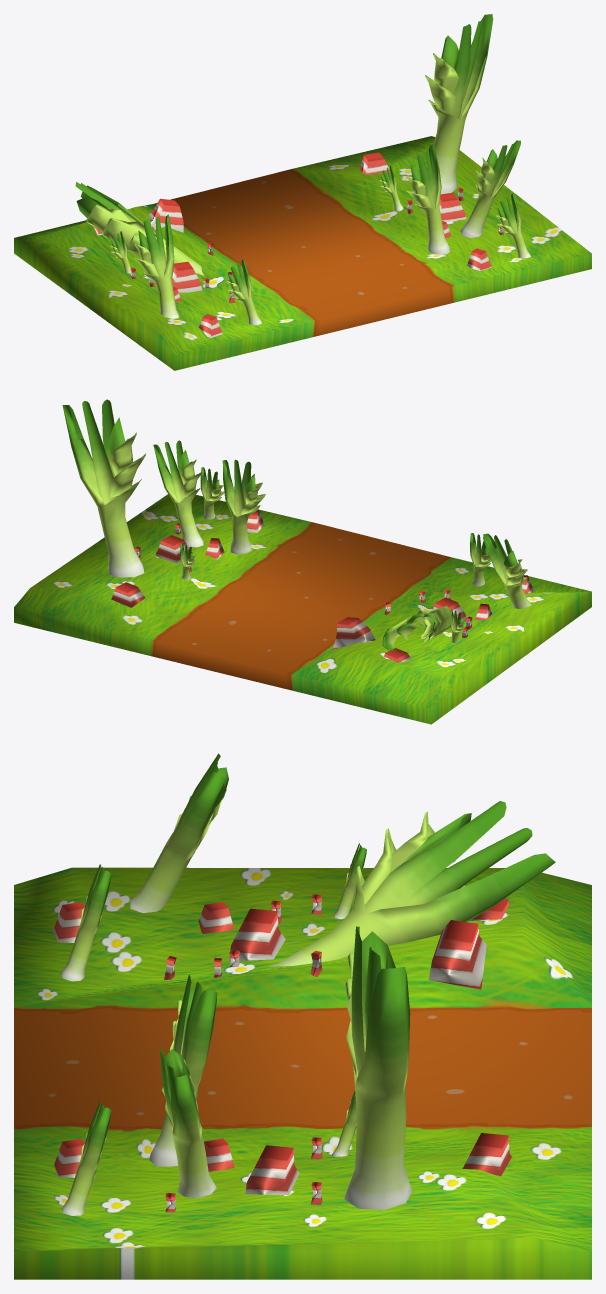
Rendered from D_block_Vide_04.FBX.
The picture shows the model from 3 angles, top to bottom: view 1: azimuth 30°, elevation 25°; view 2: azimuth 150°, elevation 25°; view 3: azimuth 270°, elevation 25°; orthographic projection. The views are drawn at different scales.
Parts seen in each view (by area): view 1: Biome_Vide_04; view 2: Biome_Vide_04; view 3: Biome_Vide_04.
Boxes of the visible parts, bbox=[...] form: Biome_Vide_04: bbox=[14, 14, 591, 370]; Biome_Vide_04: bbox=[14, 399, 591, 724]; Biome_Vide_04: bbox=[14, 753, 591, 1279].
Bounding box in the file's own units: 9.13 × 4.08 × 6.
Materials: 2 (2 with a texture image).
